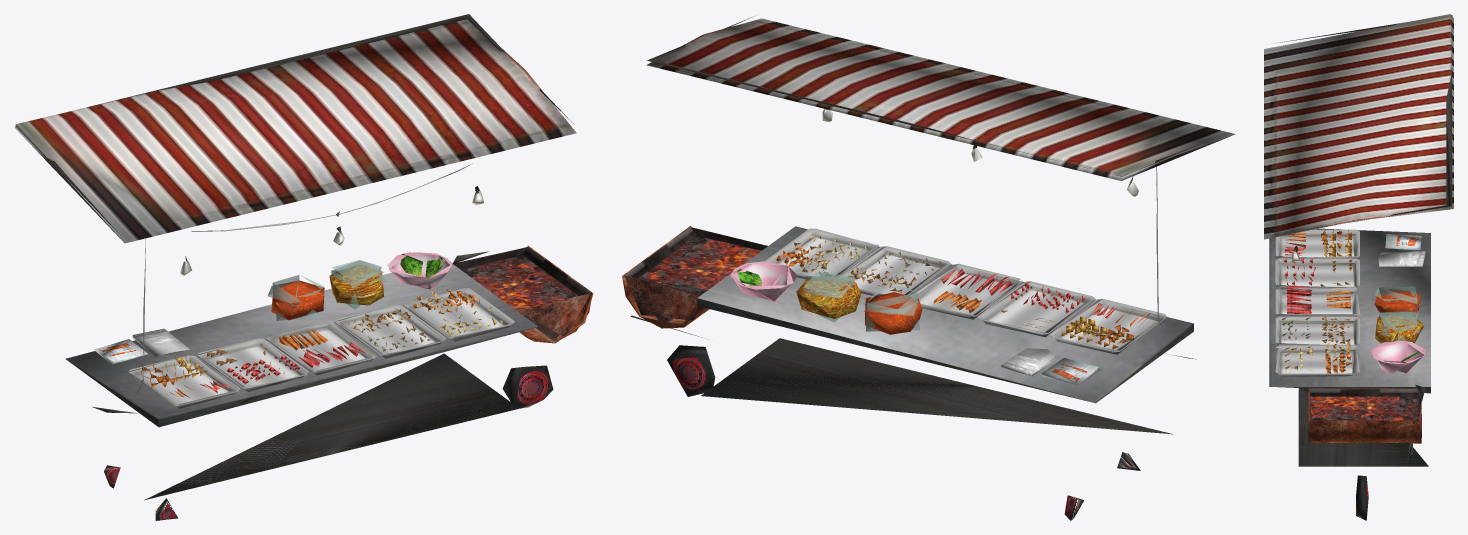
The model's file is xe-day-2.glb.
3 views of the same model, side by side, from view 1: azimuth 30°, elevation 25°; view 2: azimuth 150°, elevation 25°; view 3: azimuth 270°, elevation 25° (orthographic). The views are drawn at different scales.
Visible parts, largest first — view 1: cart_Material #362_0, grill_Material #364_0, cart_decor_Material #361_0, tray04_Material #369_0, tray01_Material #366_0, tray02_Material #367_0, tray05_Material #370_0, tray03_Material #368_0, blow_glass_01 - Default_0, light_Material #371_0; view 2: cart_Material #362_0, grill_Material #364_0, cart_decor_Material #361_0, tray04_Material #369_0, tray05_Material #370_0, tray03_Material #368_0, tray02_Material #367_0, tray01_Material #366_0, blow_glass_01 - Default_0; view 3: cart_Material #362_0, grill_Material #364_0, cart_decor_Material #361_0, tray01_Material #366_0, tray03_Material #368_0, tray02_Material #367_0, tray04_Material #369_0, tray05_Material #370_0, blow_glass_01 - Default_0.
Boxes of the visible parts, <box> form: cart_Material #362_0: <box>14,14,576,500</box>; grill_Material #364_0: <box>91,245,593,520</box>; cart_decor_Material #361_0: <box>93,252,451,364</box>; tray04_Material #369_0: <box>196,338,308,391</box>; tray01_Material #366_0: <box>403,288,514,341</box>; tray02_Material #367_0: <box>334,305,446,358</box>; tray05_Material #370_0: <box>128,355,239,408</box>; tray03_Material #368_0: <box>265,321,377,375</box>; blow_glass_01 - Default_0: <box>267,260,387,320</box>; light_Material #371_0: <box>133,163,483,400</box>; cart_Material #362_0: <box>646,16,1235,434</box>; grill_Material #364_0: <box>622,226,1195,520</box>; cart_decor_Material #361_0: <box>730,261,1100,385</box>; tray04_Material #369_0: <box>978,281,1095,337</box>; tray05_Material #370_0: <box>1050,299,1167,354</box>; tray03_Material #368_0: <box>910,263,1023,319</box>; tray02_Material #367_0: <box>840,246,950,295</box>; tray01_Material #366_0: <box>764,228,879,279</box>; blow_glass_01 - Default_0: <box>803,271,920,331</box>; cart_Material #362_0: <box>1264,14,1453,466</box>; grill_Material #364_0: <box>1308,384,1425,520</box>; cart_decor_Material #361_0: <box>1371,234,1425,373</box>; tray01_Material #366_0: <box>1275,341,1359,377</box>; tray03_Material #368_0: <box>1275,285,1359,316</box>; tray02_Material #367_0: <box>1275,316,1359,345</box>; tray04_Material #369_0: <box>1275,258,1359,289</box>; tray05_Material #370_0: <box>1275,229,1359,258</box>; blow_glass_01 - Default_0: <box>1375,285,1419,341</box>.
Bounding box in the file's own units: 0.9626 × 0.6759 × 0.3698.
10 materials, 9 textured.
